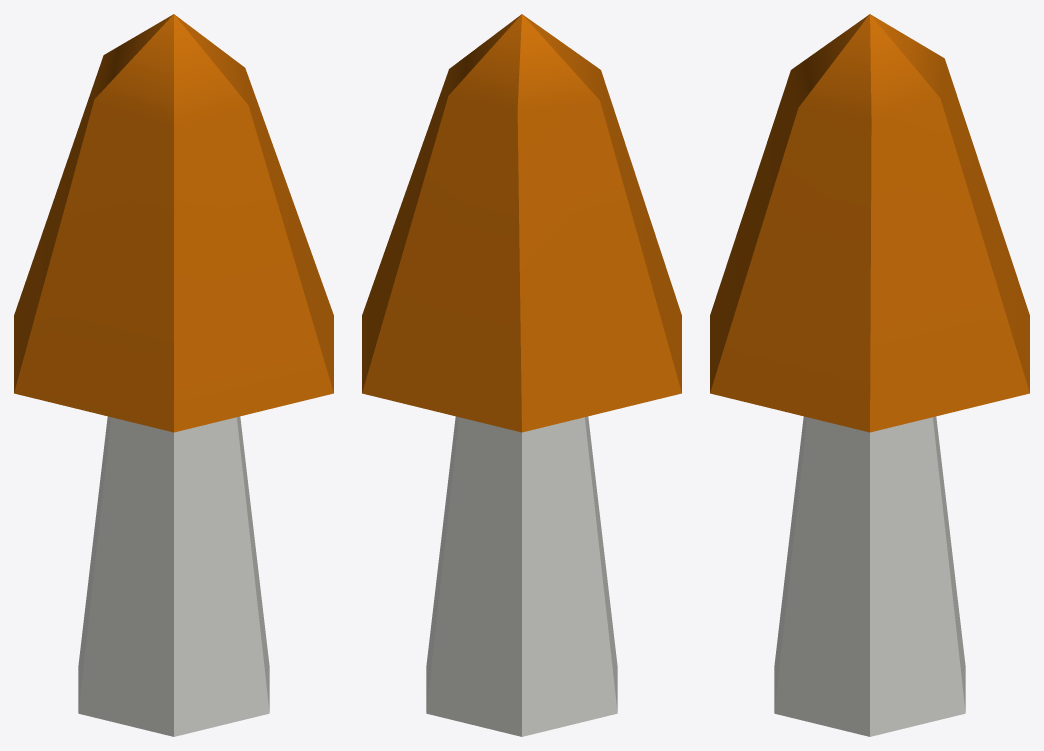
The model's file is fungo2.fbx.
3 views of the same model, side by side, from view 1: azimuth 30°, elevation 25°; view 2: azimuth 150°, elevation 25°; view 3: azimuth 270°, elevation 25° (orthographic).
Parts seen in each view (by area): view 1: Mushroom_Tall_01; view 2: Mushroom_Tall_01; view 3: Mushroom_Tall_01.
Boxes of the visible parts, x1,y1,x2,y2 form: Mushroom_Tall_01: (14, 14, 333, 736); Mushroom_Tall_01: (362, 14, 681, 736); Mushroom_Tall_01: (710, 14, 1029, 736).
Bounding box in the file's own units: 15.51 × 31.33 × 13.43.
